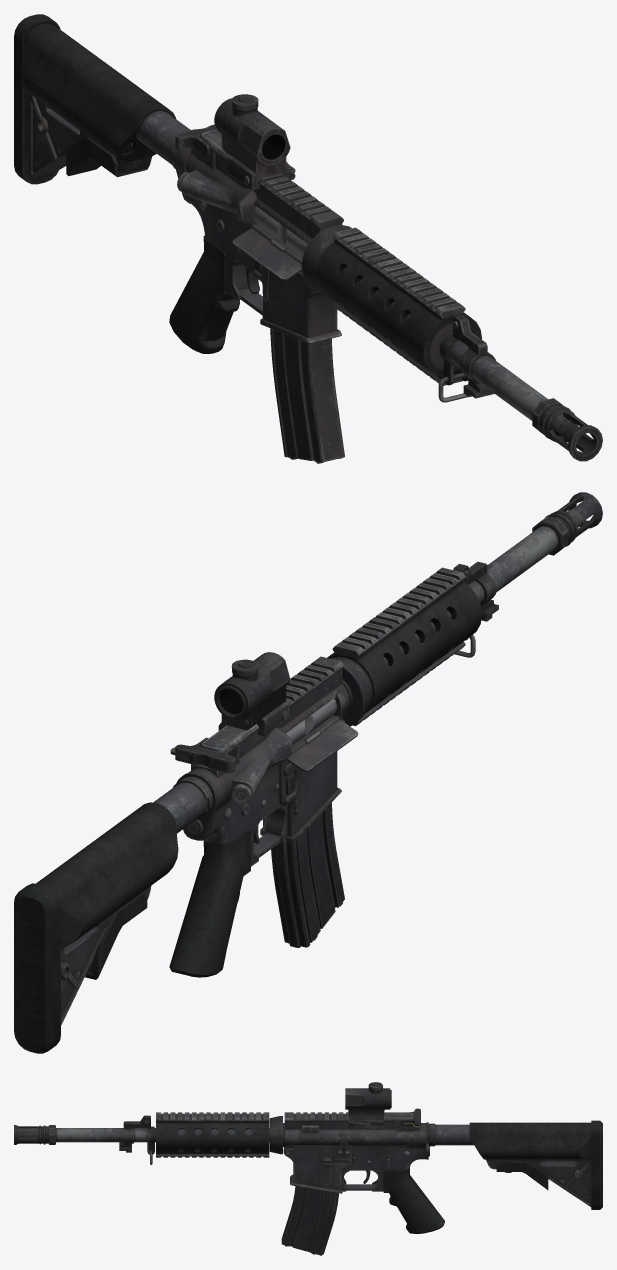
Rendered from world.glb.
3 renders of one model, top to bottom at view 1: azimuth 30°, elevation 25°; view 2: azimuth 150°, elevation 25°; view 3: azimuth 270°, elevation 25°, orthographic. The views are drawn at different scales.
Visible parts, largest first — view 1: base, clip, scope, lid, bolt, handle; view 2: base, clip, scope, lid, handle, bolt; view 3: base, clip, scope.
Part boxes in pixels (<box>): base: <box>14,14,602,461</box>; clip: <box>270,328,344,463</box>; scope: <box>214,94,295,189</box>; lid: <box>232,228,301,280</box>; bolt: <box>254,206,306,256</box>; handle: <box>175,124,216,156</box>; base: <box>14,492,602,1053</box>; clip: <box>271,802,344,947</box>; scope: <box>214,652,290,736</box>; lid: <box>286,719,358,772</box>; handle: <box>175,737,238,773</box>; bolt: <box>286,698,336,745</box>; base: <box>14,1112,602,1233</box>; clip: <box>281,1186,338,1255</box>; scope: <box>345,1082,391,1127</box>.
Bounding box in the file's own units: 0.1575 × 0.6656 × 2.1.
2 materials, 2 textured.
